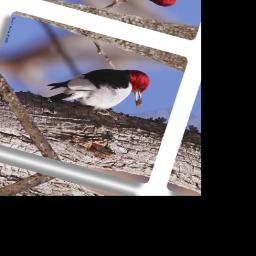Woodpecker: (43, 49, 153, 127)
